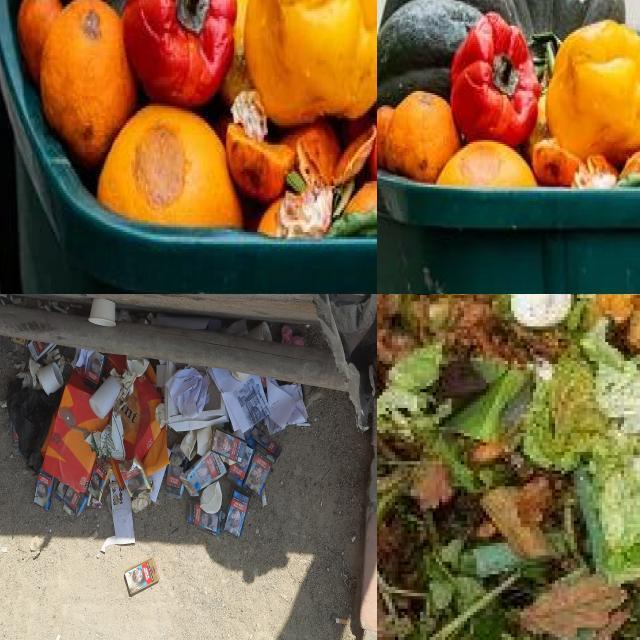Background: (0, 337, 373, 640)
Cig_bud: (48, 348, 60, 357), (55, 306, 68, 314), (335, 618, 348, 625), (57, 355, 65, 366), (59, 360, 65, 372), (70, 303, 83, 308), (54, 354, 61, 360), (45, 305, 52, 311), (0, 294, 8, 298), (55, 635, 61, 640), (65, 306, 70, 310)
Cig_pack: (227, 428, 282, 496), (181, 451, 227, 491), (119, 457, 150, 498), (187, 500, 222, 534), (125, 559, 158, 595), (249, 428, 282, 464), (88, 457, 112, 506), (223, 491, 249, 536), (244, 453, 271, 496), (212, 430, 246, 462), (55, 481, 87, 515), (228, 447, 254, 487), (84, 352, 106, 390), (34, 472, 54, 508), (166, 464, 184, 498), (28, 341, 55, 362), (212, 432, 233, 455), (247, 443, 250, 445)
Garbage: (377, 294, 640, 640), (14, 0, 377, 238), (7, 341, 308, 536), (377, 0, 640, 186), (125, 559, 158, 595), (106, 504, 134, 544)
Plastic_Bag: (7, 379, 61, 472)
